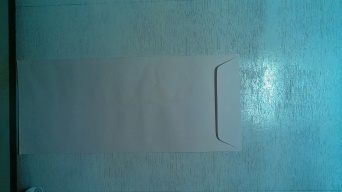l: (16, 57, 245, 156)
